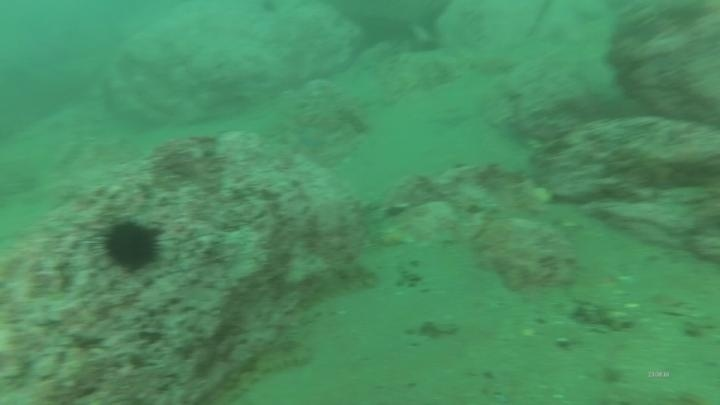echinus: (95, 214, 167, 275)
holothurian: (218, 338, 315, 401), (290, 259, 381, 306)
starfish: (292, 121, 336, 156)
